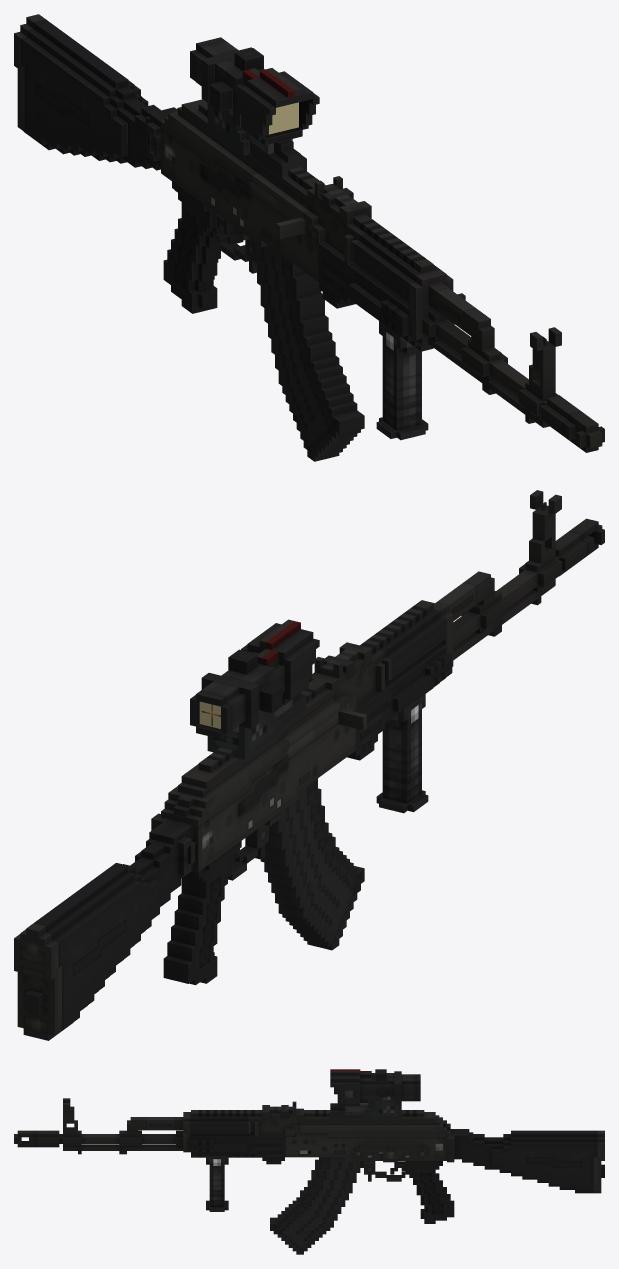
The picture shows the model from 3 angles, top to bottom: view 1: azimuth 30°, elevation 25°; view 2: azimuth 150°, elevation 25°; view 3: azimuth 270°, elevation 25°; orthographic projection. The views are drawn at different scales.
Parts seen in each view (by area): view 1: AK103, AK103_CLIP, SCOPE_ACOG, GRIP1, SCOPE_EOTECH; view 2: AK103, AK103_CLIP, SCOPE_ACOG, GRIP1, SCOPE_EOTECH; view 3: AK103, AK103_CLIP, SCOPE_ACOG, GRIP1, SCOPE_EOTECH.
Part boxes in pixels (x1,y1,x2,y2): AK103: [14, 14, 604, 452]; AK103_CLIP: [253, 241, 364, 461]; SCOPE_ACOG: [190, 37, 319, 177]; GRIP1: [376, 320, 428, 440]; SCOPE_EOTECH: [207, 103, 292, 155]; AK103: [14, 490, 604, 1040]; AK103_CLIP: [260, 778, 364, 950]; SCOPE_ACOG: [190, 619, 319, 738]; GRIP1: [376, 693, 428, 813]; SCOPE_EOTECH: [207, 699, 292, 759]; AK103: [14, 1098, 604, 1223]; AK103_CLIP: [270, 1157, 363, 1254]; SCOPE_ACOG: [330, 1069, 420, 1118]; GRIP1: [206, 1156, 228, 1211]; SCOPE_EOTECH: [345, 1096, 401, 1119].
Size of the model in its own units: 0.1181 by 0.5217 by 1.55.
8 materials, 8 textured.
